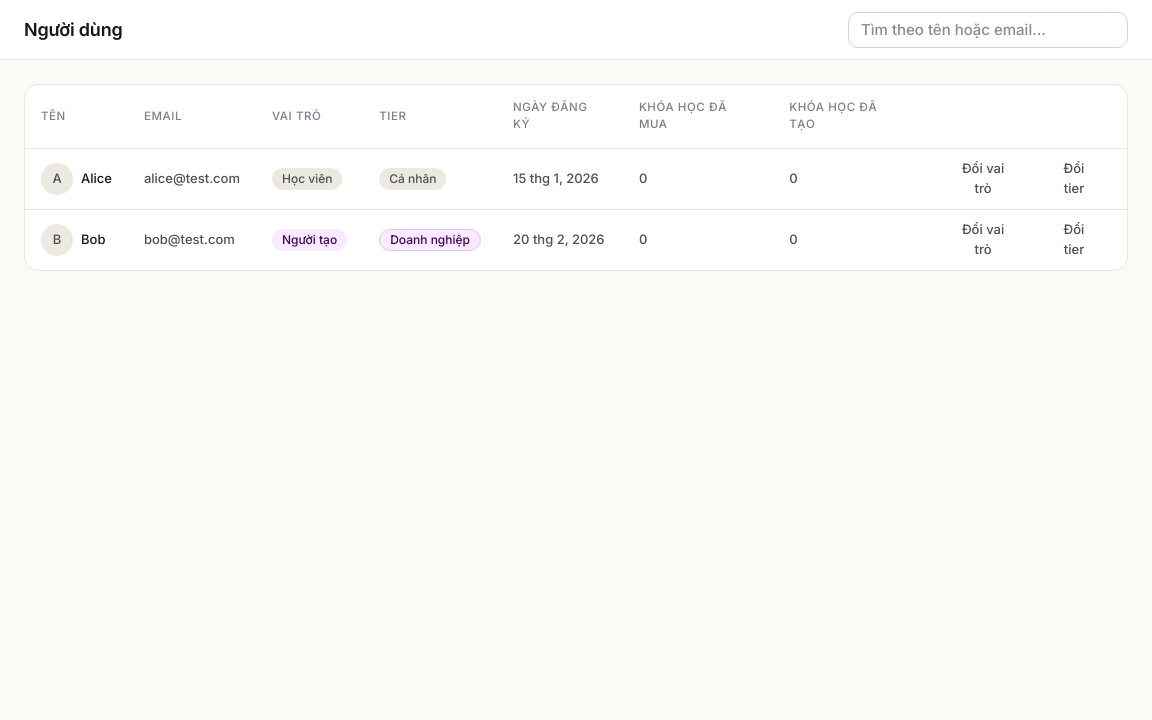
Test case: AdminUsersPage › opens role change dialog when action button clicked
Expected: the text "Alice" is shown, [81,169,112,188]
Click the button "Đổi vai trò" in the row of "alice@test.com" at x=983, y=178, box [937,162,1029,194]
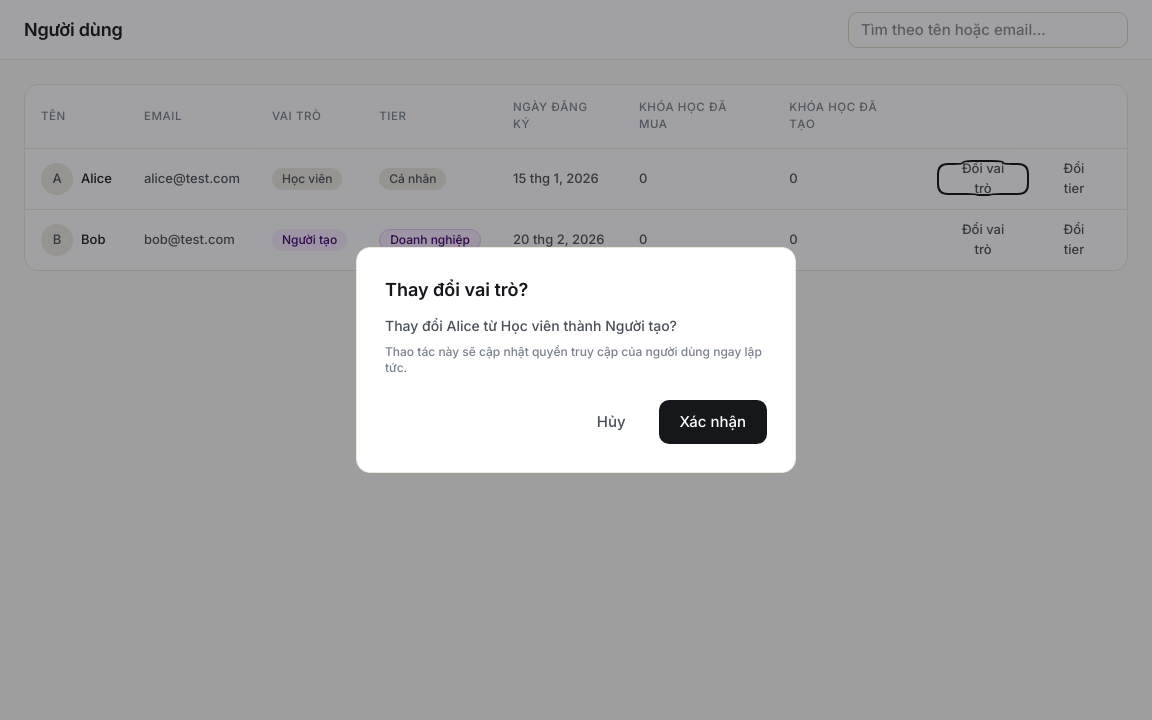
Expected: the element with test id "role-change-dialog" is shown, [356,247,796,473]
Expected: the heading "Thay đổi vai trò?" is shown, [385,279,528,300]
